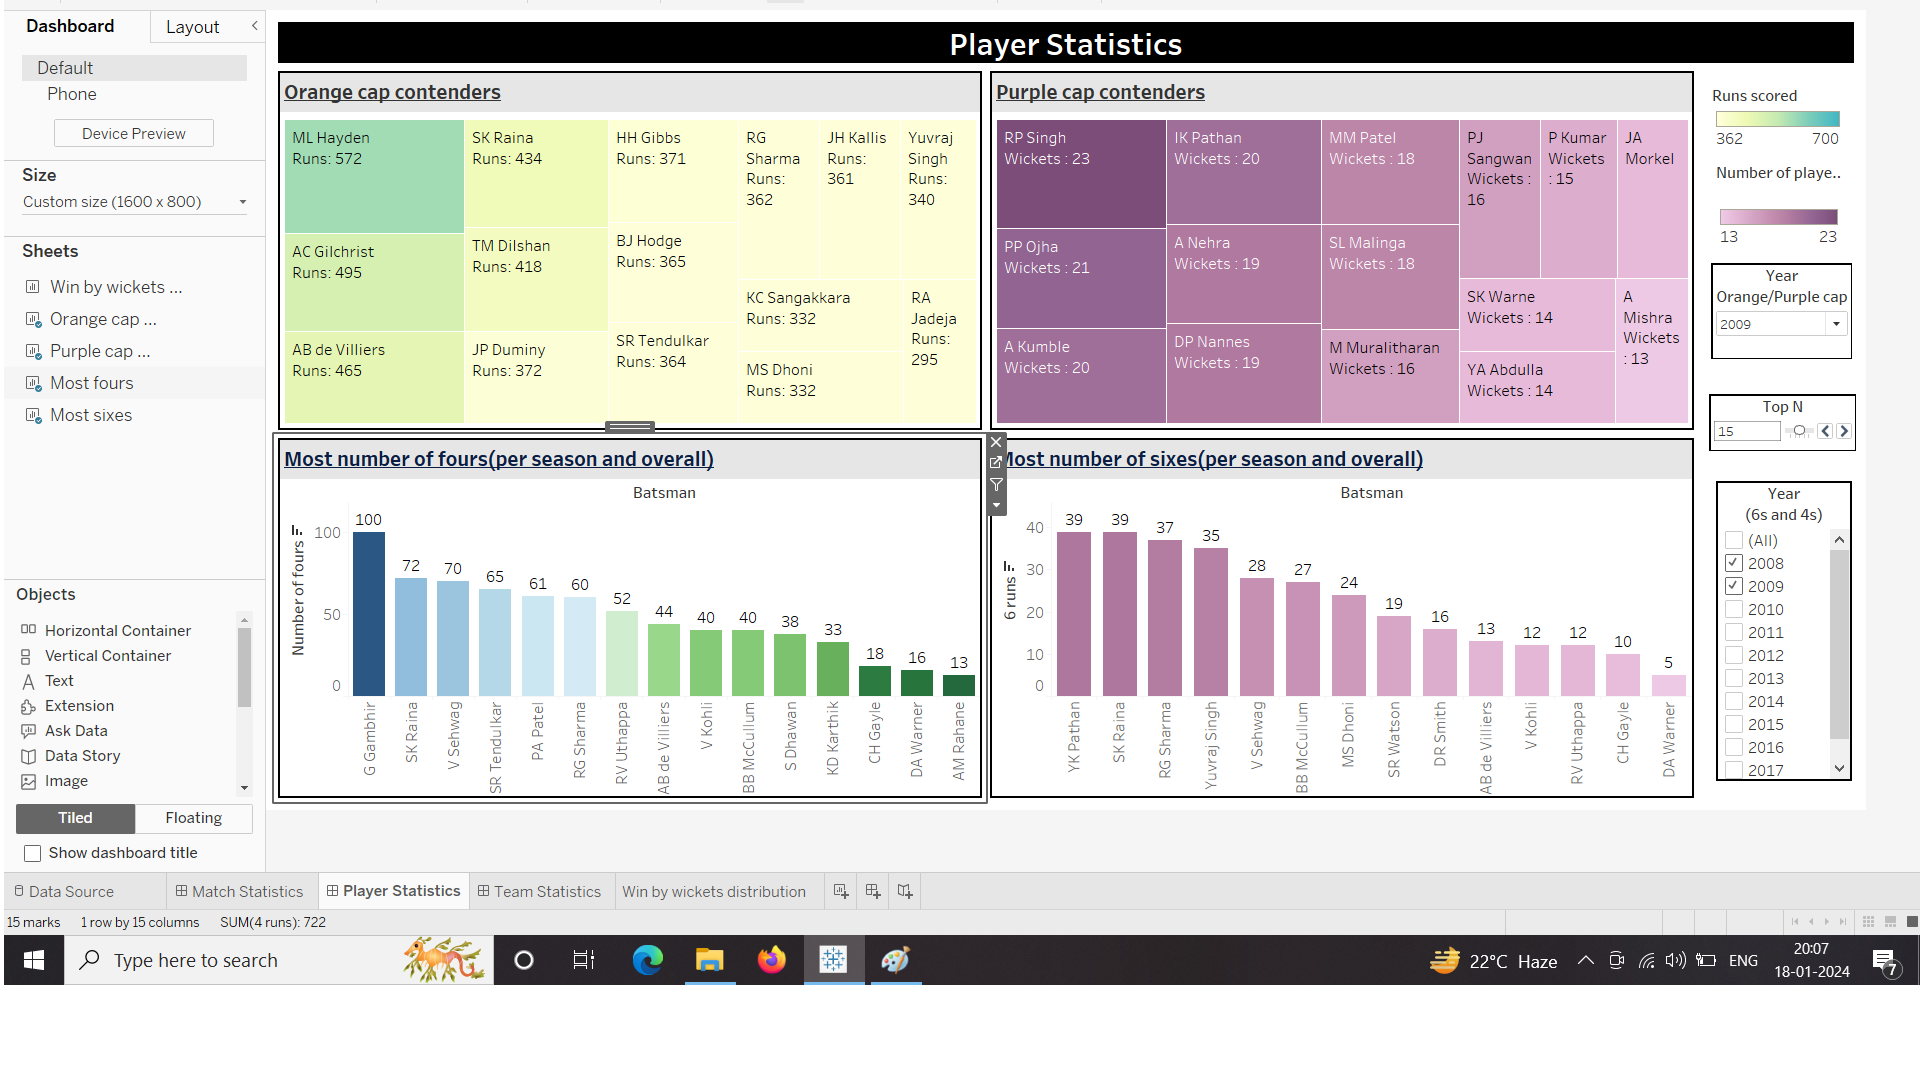

Layout of this report page (visuals, bound fields, positions):
{"tool":"tableau","page":{"name":"Player Statistics","canvas":[1600,800],"ordinal":1},"visuals":[{"type":"title","box":[8,8,1584,49]},{"type":"worksheet","title":"Orange cap contenders","mark":"Automatic","box":[8,57,711.9,367.4]},{"type":"worksheet","title":"Purple cap contenders","mark":"Automatic","box":[719.9,57,712.1,367.4]},{"type":"legend","title":"Orange cap contenders","param":"[federated.1ucho6z02y3nsr1040je40x66djt].[sum:batsman_runs:qk]","box":[1446.5,75.3,132.3,73.4]},{"type":"legend","title":"Purple cap contenders","param":"[federated.1ucho6z02y3nsr1040je40x66djt].[ctd:player_dismissed:qk]","box":[1450.3,152.4,126.5,107.8]},{"type":"filter","title":"Orange cap contenders","param":"[federated.1ucho6z02y3nsr1040je40x66djt].[yr:date:ok]","box":[1444.5,252.7,141.9,96.6]},{"type":"parameter","param":"[Parameters].[Parameter 1]","box":[1442.6,383.7,147.7,57.6]},{"type":"worksheet","title":"Most fours","mark":"Automatic","rows":["Calculation_-[number redacted]"],"cols":["batsman"],"box":[8,424.4,711.9,367.6]},{"type":"worksheet","title":"Most sixes","mark":"Automatic","rows":["Calculation_-[number redacted]"],"cols":["batsman"],"box":[719.9,424.4,712.1,367.6]},{"type":"filter","title":"Most sixes","param":"[federated.1ucho6z02y3nsr1040je40x66djt].[yr:date:ok]","box":[1450,471,136,300]}]}

Visuals, with their boxes on the page's 1600x800 design canvas (x1, y1, x2, y2). These are canvas units, not pixel positions in the 1920x1080 screenshot, which may show the page scaled, cropped or inside an application window:
title: BBox(8, 8, 1592, 57)
"Orange cap contenders" worksheet: BBox(8, 57, 720, 424)
"Purple cap contenders" worksheet: BBox(720, 57, 1432, 424)
"Orange cap contenders" legend: BBox(1446, 75, 1579, 149)
"Purple cap contenders" legend: BBox(1450, 152, 1577, 260)
"Orange cap contenders" filter: BBox(1444, 253, 1586, 349)
parameter: BBox(1443, 384, 1590, 441)
"Most fours" worksheet: BBox(8, 424, 720, 792)
"Most sixes" worksheet: BBox(720, 424, 1432, 792)
"Most sixes" filter: BBox(1450, 471, 1586, 771)
